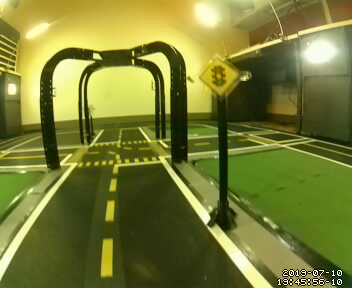Traffic light sign: (200, 56, 241, 97)
